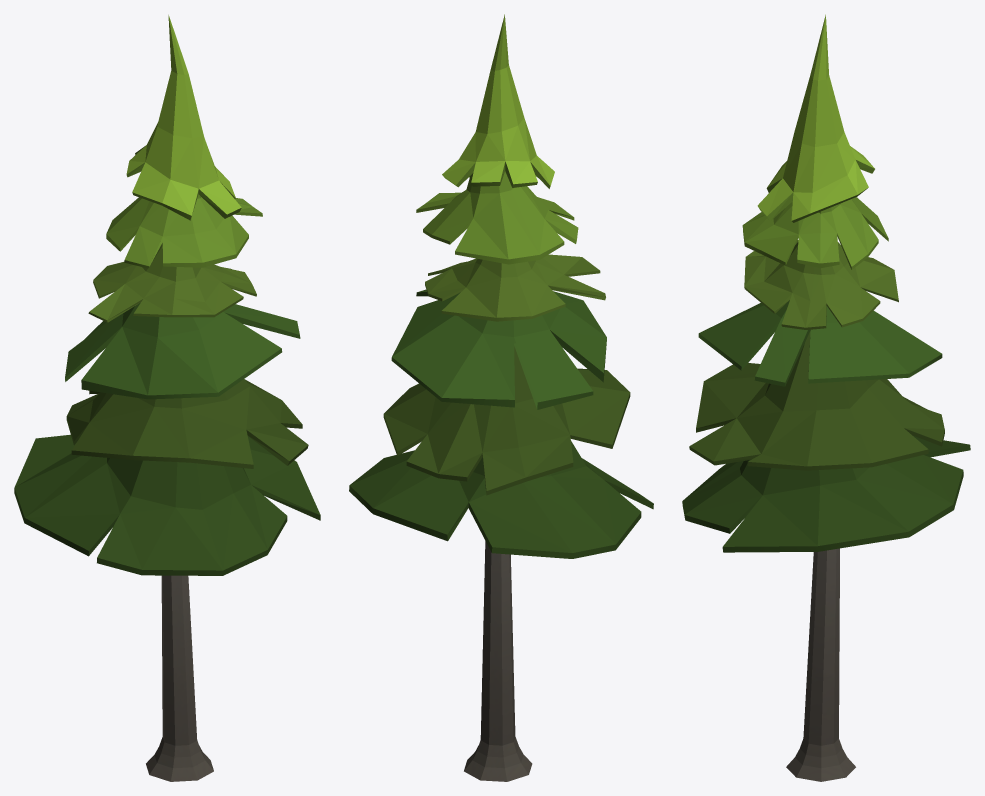
Rendered from ZLP_Plant_K_5.FBX.
3 views of the same model, side by side, from view 1: azimuth 30°, elevation 25°; view 2: azimuth 150°, elevation 25°; view 3: azimuth 270°, elevation 25° (orthographic).
Parts seen in each view (by area): view 1: ZLP_Plant_K_5; view 2: ZLP_Plant_K_5; view 3: ZLP_Plant_K_5.
Part boxes in pixels (<box>): ZLP_Plant_K_5: <box>14,15,320,781</box>; ZLP_Plant_K_5: <box>349,14,653,781</box>; ZLP_Plant_K_5: <box>682,14,970,781</box>.
Bounding box in the file's own units: 257 × 736 × 257.
